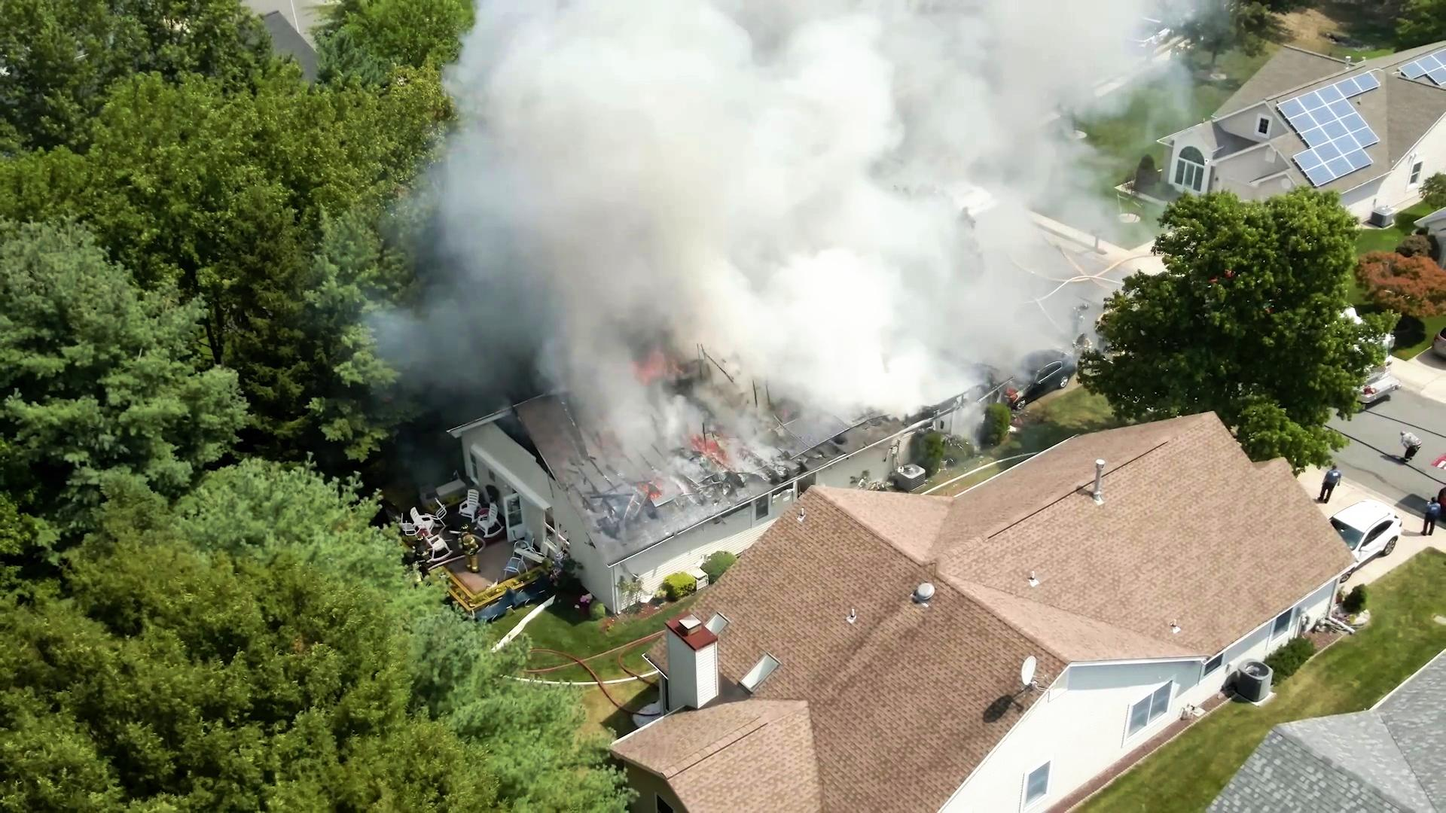smoke: (649, 3, 1057, 230), (679, 126, 945, 380), (512, 227, 642, 389)
